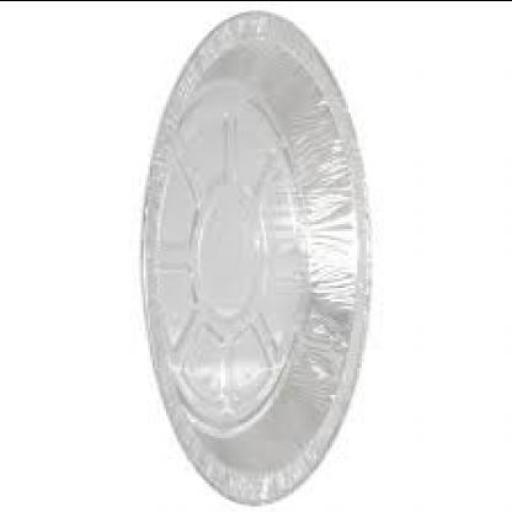metal: (146, 12, 373, 508)
